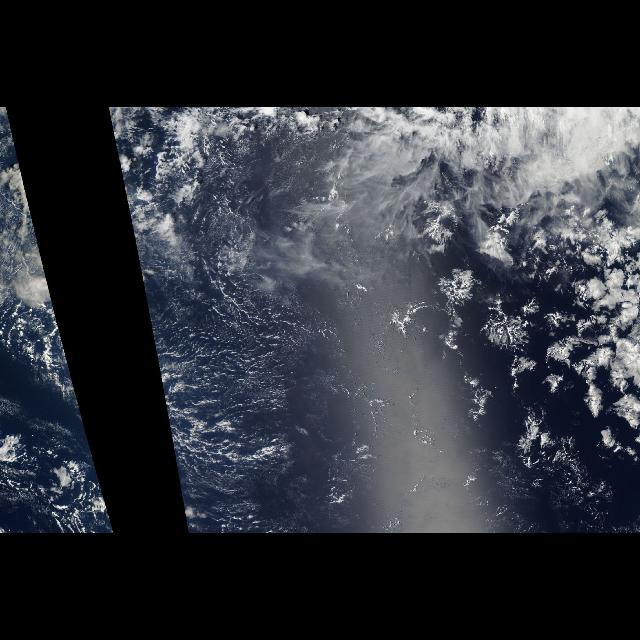Flower: (385, 190, 639, 514)
Sugar: (144, 258, 438, 514)
